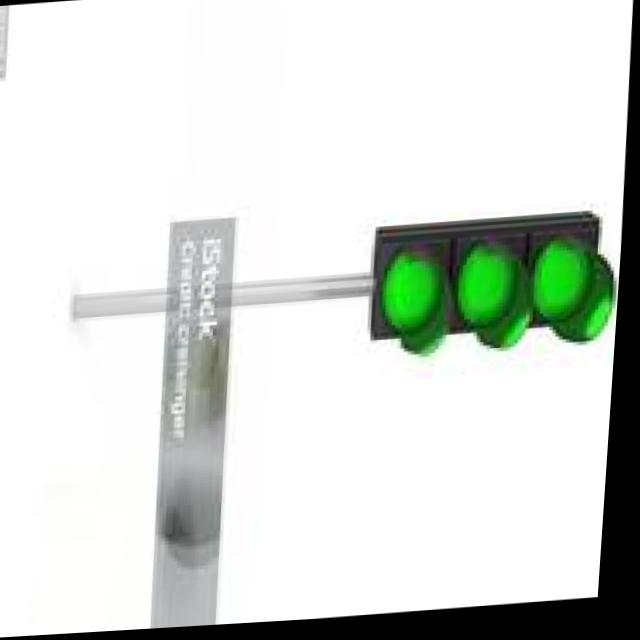green_light: (302, 235, 467, 377), (431, 231, 553, 346), (525, 233, 623, 346)
yellow_light: (319, 174, 629, 365)
